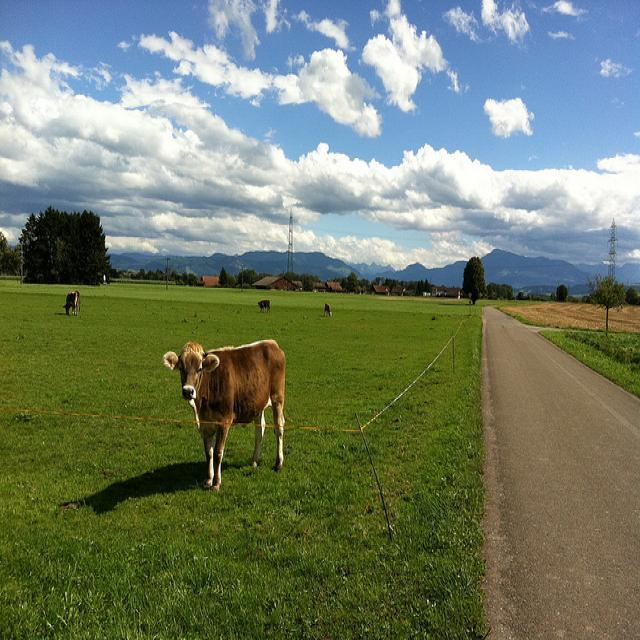cow: (162, 338, 285, 488), (62, 288, 79, 313), (256, 297, 269, 311), (322, 301, 331, 316)
